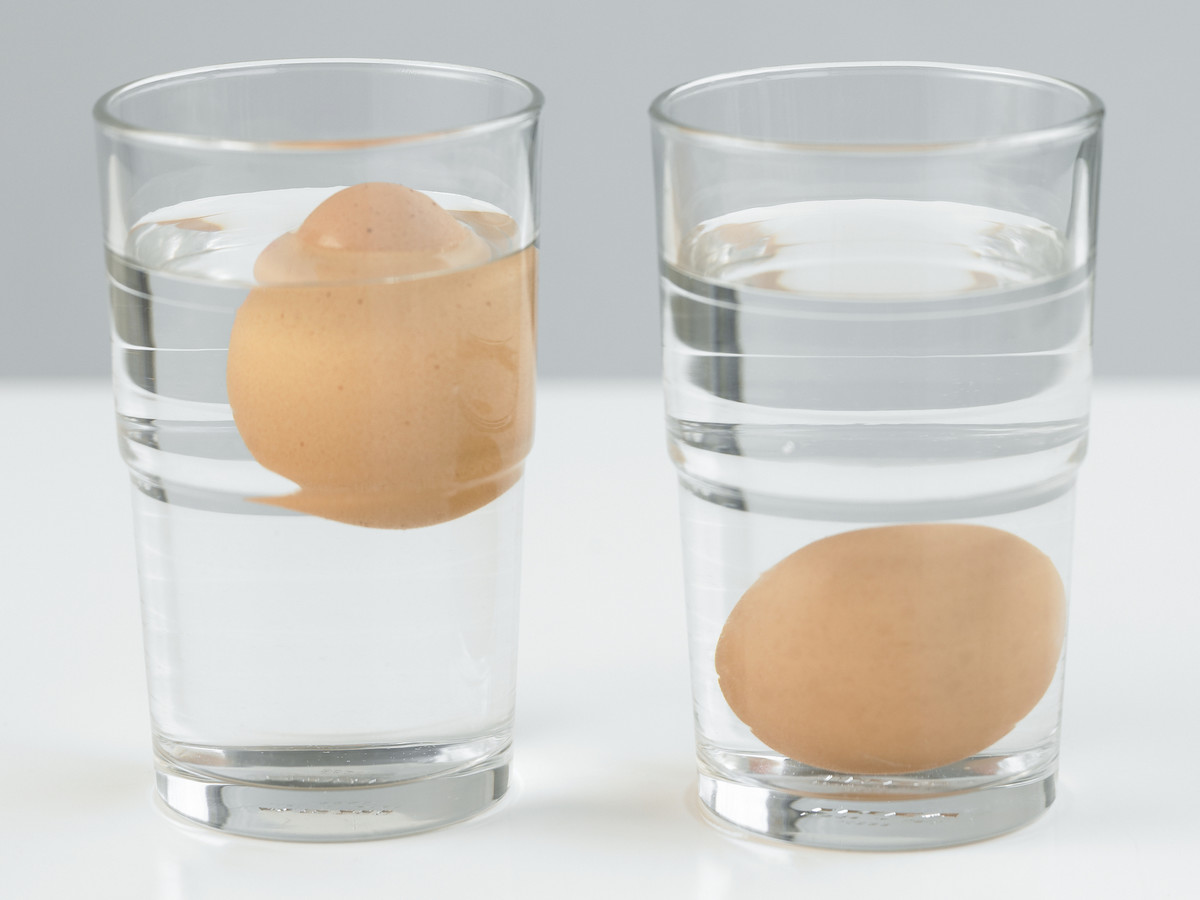glass of water: (666, 150, 1084, 477)
